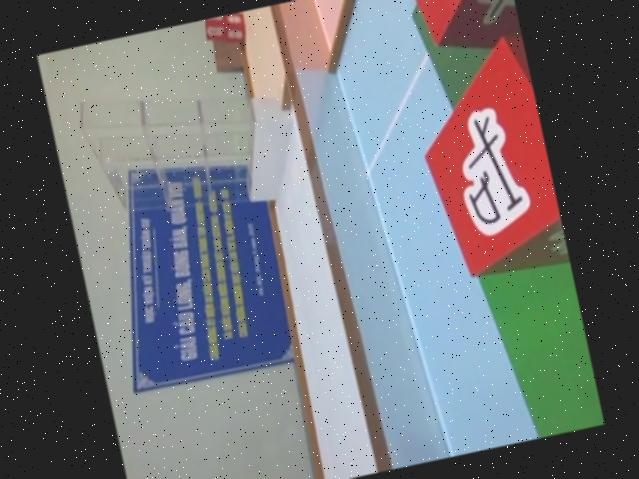R2 Real: (394, 34, 571, 298), (394, 0, 522, 64)
